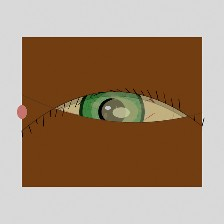corneal_ulcer: (90, 88, 150, 135)
